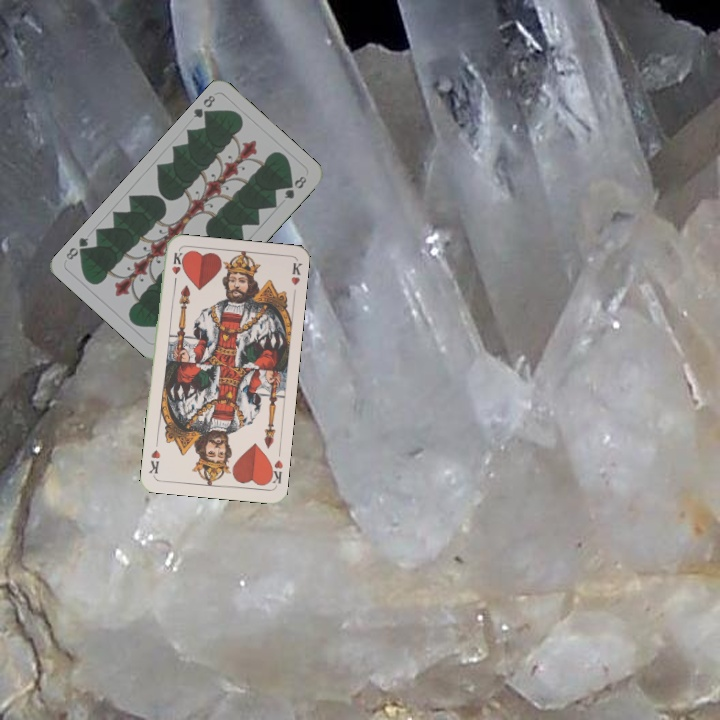G8: (189, 91, 218, 123)
HK: (264, 456, 285, 488), (168, 248, 184, 289)
